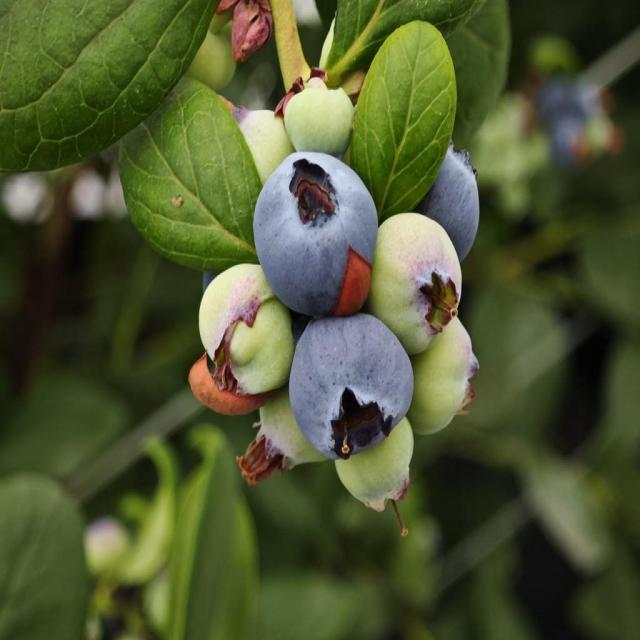RipeBlueBerry: (255, 148, 376, 308), (291, 318, 417, 458)
UnripeBlueBerry: (194, 264, 289, 398), (371, 211, 465, 344)
